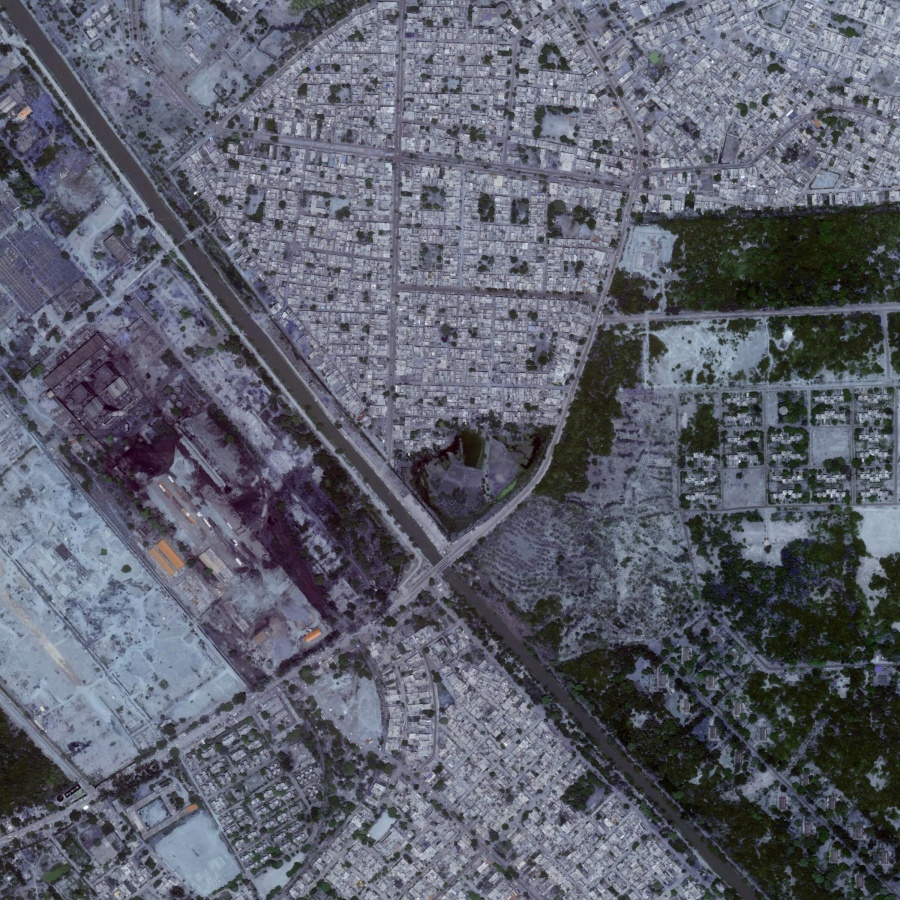PowerPlant: (44, 326, 343, 649)
